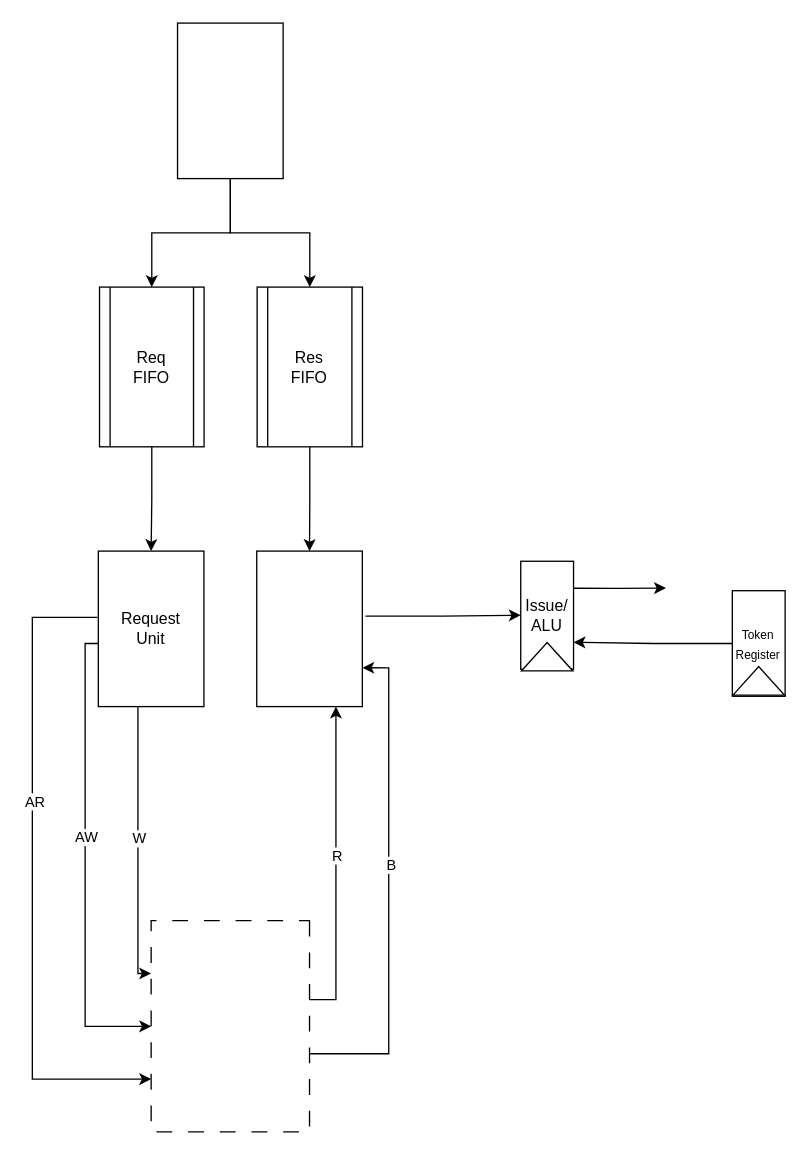
The diagram is 809 pixels wide and 1155 high, and some of its shapes have lost their labels. Here are the shapes that lost their labels. From the top down, the centre of each, then its label:
At point 229,100: "Addressing Unti".
At point 308,628: "Response Unit".
At point 230,1025: "Data Memory".
